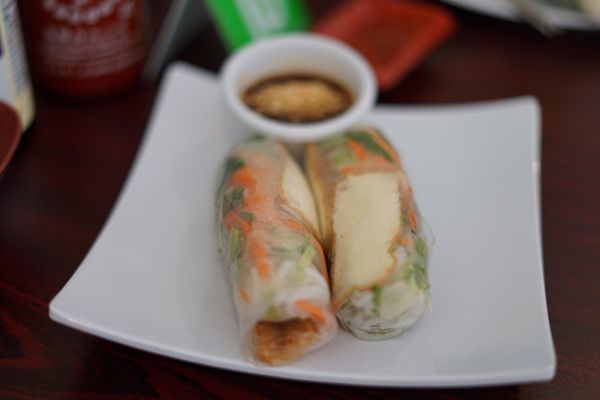pizza: (218, 31, 379, 145), (18, 0, 154, 100)
soup: (216, 134, 337, 366), (306, 124, 434, 342)
